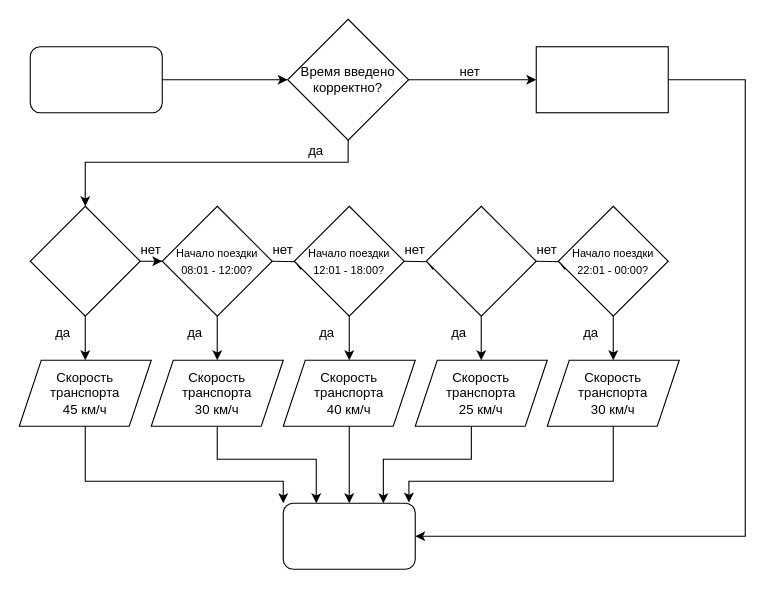
This 773x589 diagram has some shape labels left out. Here are the shapes that lost their labels. From the top down, the box of each, then its label:
(29, 46, 162, 113): Начало
(535, 46, 668, 113): Ошибка "Вы ввели некорректное время"
(29, 205, 140, 316): Начало поездки 00:01 - 08:00?
(425, 205, 536, 316): Начало поездки 18:01 - 22:00?
(282, 502, 415, 569): Конец
